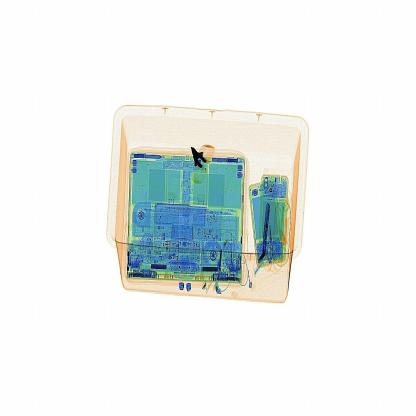gun: (184, 134, 224, 198)
